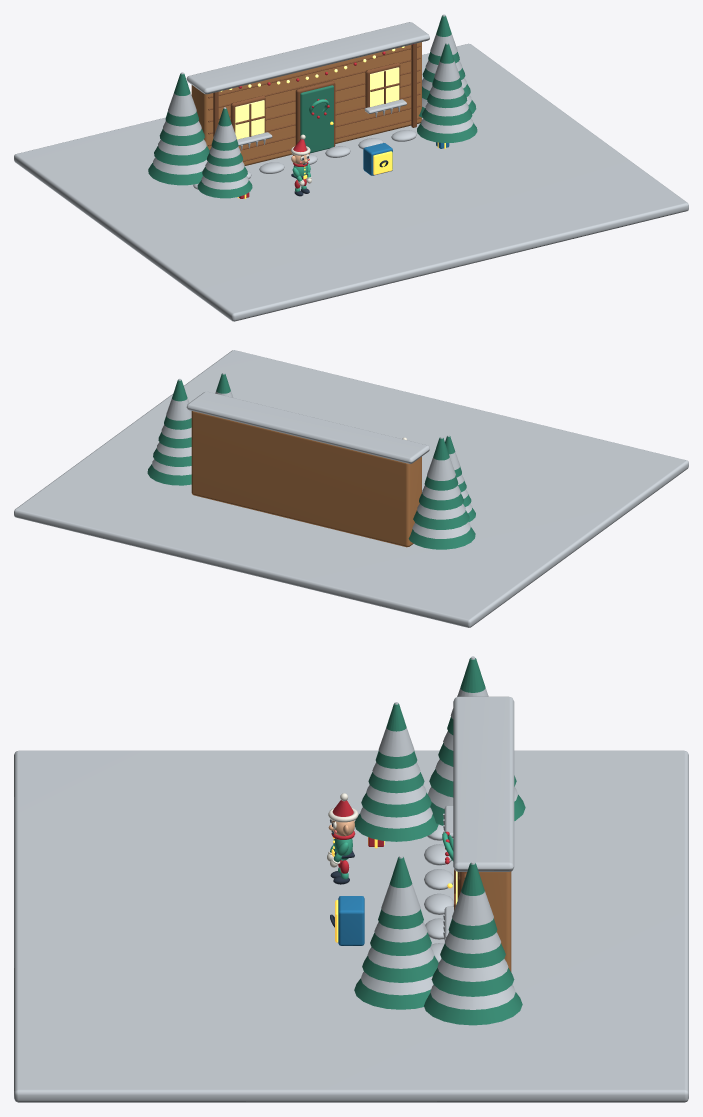
The model's file is chapter-20.glb.
3 renders of one model, top to bottom at view 1: azimuth 30°, elevation 25°; view 2: azimuth 150°, elevation 25°; view 3: azimuth 270°, elevation 25°, orthographic. The views are drawn at different scales.
Visible parts, largest first — view 1: Schneeboden, Werkstatt, Schneegesims, Wichteltür, Warmes Fenster, Warmes Fenster.001, Tannenzweig.004, Tannenzweig.008, Tannenzweig.009, Türrahmen, Tannenzweig.011, Schnee.011 (+8 smaller); view 2: Schneeboden, Werkstatt, Schneegesims, Tannenzweig.008, Tannenzweig.009, Tannenzweig.011, Schnee.008, Schnee.011, Tannenzweig.015, Tannenzweig.012, Tannenzweig.010, Schnee.009 (+1 smaller); view 3: Schneeboden, Schneegesims, Werkstatt, Tannenzweig.012, Tresor, Tannenzweig.013, Tannenzweig.015, Tannenzweig, Schnee.012, Tannenzweig.005, Tannenzweig.004, Schnee.015 (+16 smaller).
Boxes of the visible parts, bbox=[...] form: Schneeboden: bbox=[14, 43, 688, 321]; Werkstatt: bbox=[191, 42, 421, 165]; Schneegesims: bbox=[186, 22, 429, 94]; Wichteltür: bbox=[300, 85, 333, 153]; Warmes Fenster: bbox=[235, 100, 264, 139]; Warmes Fenster.001: bbox=[370, 67, 399, 106]; Tannenzweig.004: bbox=[417, 122, 477, 142]; Tannenzweig.008: bbox=[148, 163, 202, 185]; Tannenzweig.009: bbox=[154, 146, 209, 165]; Türrahmen: bbox=[295, 81, 335, 146]; Tannenzweig.011: bbox=[165, 73, 198, 126]; Schnee.011: bbox=[168, 72, 196, 116]; Schneeboden: bbox=[14, 350, 688, 627]; Werkstatt: bbox=[191, 411, 421, 547]; Schneegesims: bbox=[186, 391, 429, 463]; Tannenzweig.008: bbox=[408, 527, 475, 549]; Tannenzweig.009: bbox=[413, 510, 469, 529]; Tannenzweig.011: bbox=[424, 437, 458, 490]; Schnee.008: bbox=[412, 522, 470, 538]; Schnee.011: bbox=[427, 436, 455, 480]; Tannenzweig.015: bbox=[164, 380, 191, 429]; Tannenzweig.012: bbox=[147, 464, 191, 485]; Tannenzweig.010: bbox=[419, 493, 463, 510]; Schnee.009: bbox=[417, 504, 465, 519]; Schneeboden: bbox=[14, 750, 688, 1102]; Schneegesims: bbox=[453, 696, 514, 871]; Werkstatt: bbox=[466, 871, 511, 971]; Tannenzweig.012: bbox=[424, 992, 522, 1025]; Tresor: bbox=[338, 896, 364, 945]; Tannenzweig.013: bbox=[431, 968, 514, 996]; Tannenzweig.015: bbox=[448, 863, 497, 939]; Tannenzweig: bbox=[354, 813, 438, 841]; Schnee.012: bbox=[430, 985, 515, 1009]; Tannenzweig.005: bbox=[362, 955, 438, 982]; Tannenzweig.004: bbox=[354, 978, 430, 1009]; Schnee.015: bbox=[452, 861, 493, 925].
Size of the model in its own units: 18 by 4.39 by 15.
